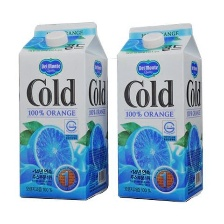carton: (15, 12, 111, 201), (115, 18, 208, 205)
